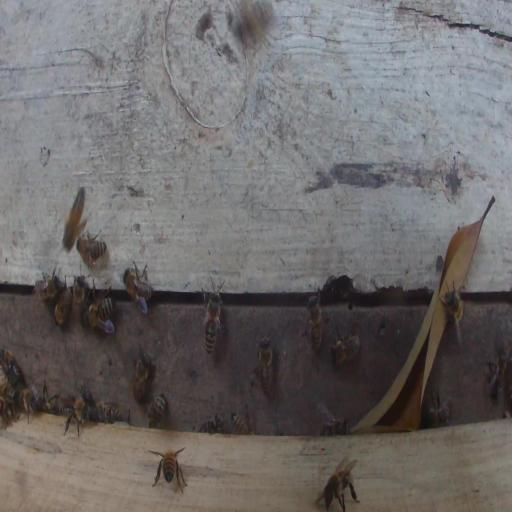Insects: (316, 456, 359, 512), (202, 274, 227, 357), (153, 446, 187, 493), (123, 261, 153, 314), (440, 283, 464, 347), (62, 187, 85, 252), (85, 288, 117, 333), (251, 334, 274, 396), (330, 323, 361, 368), (77, 230, 107, 271), (487, 347, 509, 402), (61, 394, 88, 438), (425, 390, 453, 426), (307, 289, 323, 352), (34, 265, 61, 302), (132, 348, 150, 403), (1, 347, 21, 384), (54, 284, 71, 326), (147, 392, 166, 428), (94, 401, 126, 422), (73, 274, 89, 313), (37, 386, 59, 413), (18, 387, 34, 424), (231, 412, 256, 435), (1, 396, 18, 427), (320, 418, 349, 436), (198, 413, 224, 433), (1, 383, 17, 400)
